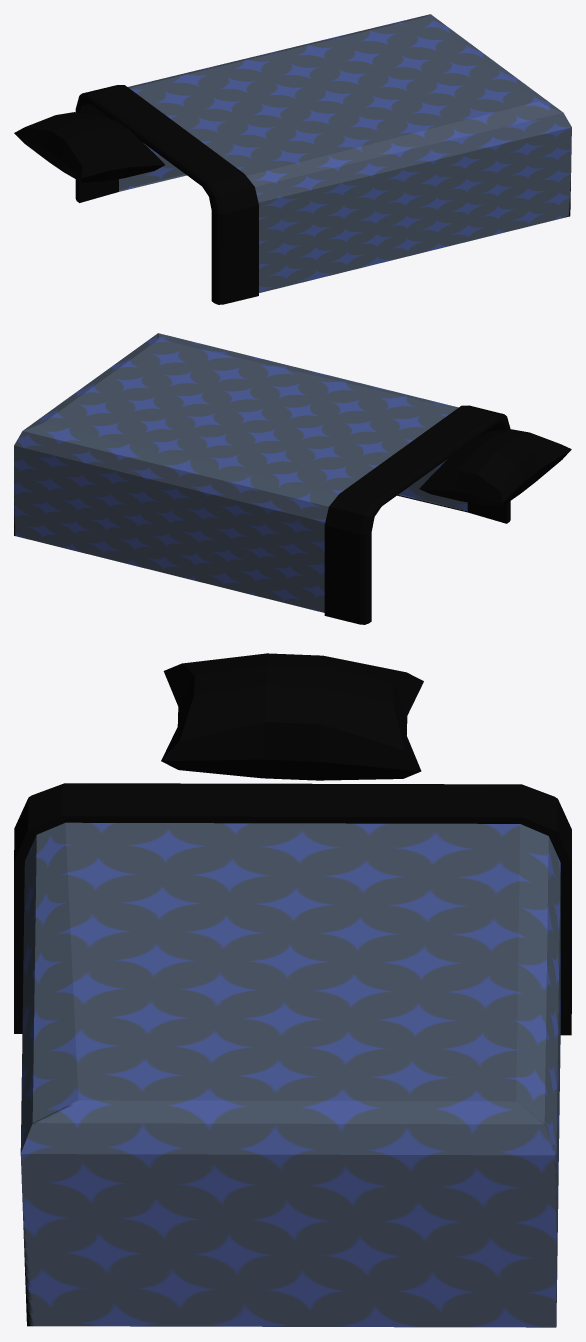
File: bed_made.fbx
3 renders of one model, top to bottom at view 1: azimuth 30°, elevation 25°; view 2: azimuth 150°, elevation 25°; view 3: azimuth 270°, elevation 25°, orthographic. The views are drawn at different scales.
Parts seen in each view (by area): view 1: bed_made.001; view 2: bed_made.001; view 3: bed_made.001.
Boxes of the visible parts, left/top/right/bottom form: bed_made.001: left=14, top=14, right=571, bottom=304; bed_made.001: left=14, top=333, right=571, bottom=624; bed_made.001: left=14, top=653, right=571, bottom=1327.
Size of the model in its own units: 218 by 65.26 by 121.
